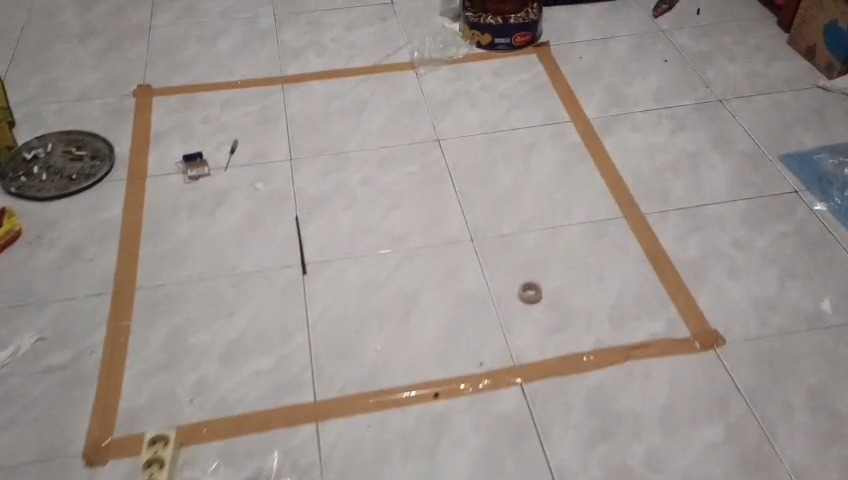floor marking: (176, 44, 724, 444), (83, 62, 413, 466)
